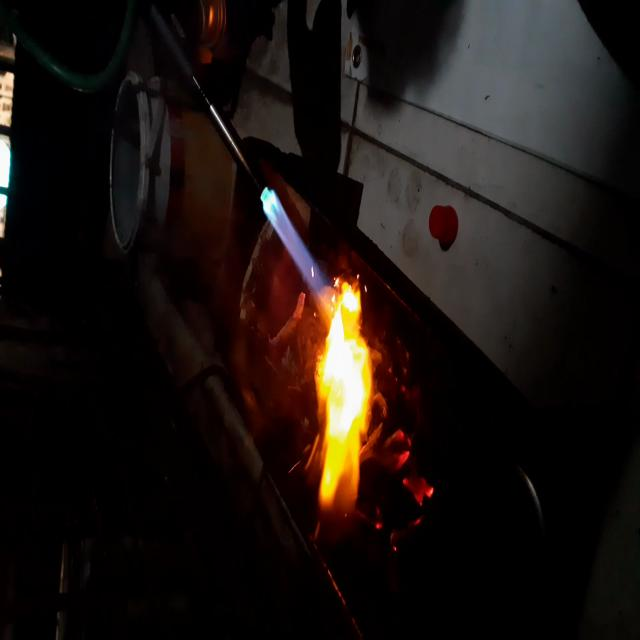Fire: (312, 272, 378, 527), (252, 257, 314, 478), (375, 395, 434, 528), (264, 178, 324, 296)
